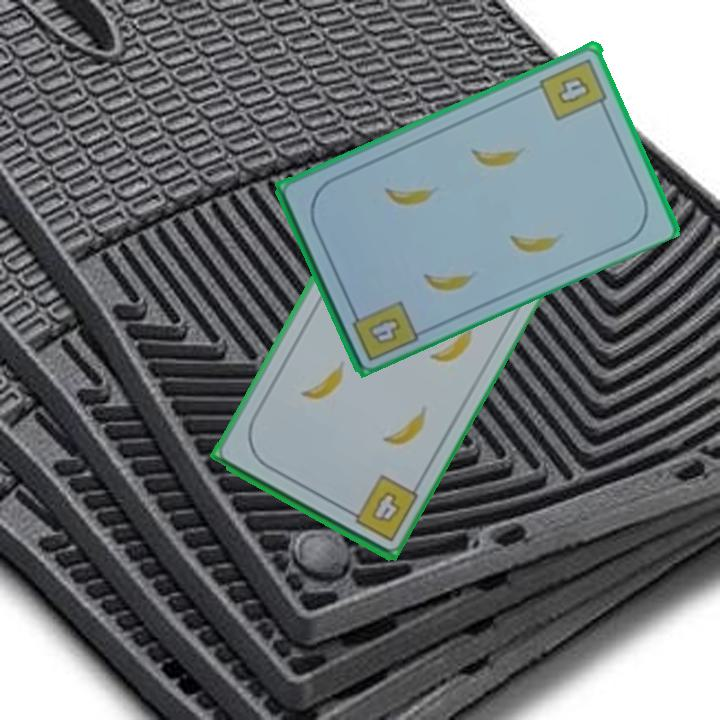4b: (339, 471, 421, 544), (536, 54, 611, 123), (345, 296, 421, 364)
